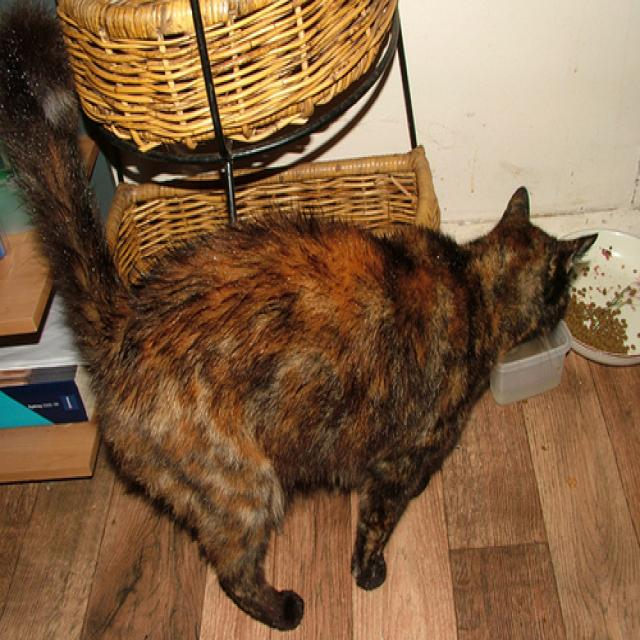cat: (1, 5, 599, 635)
